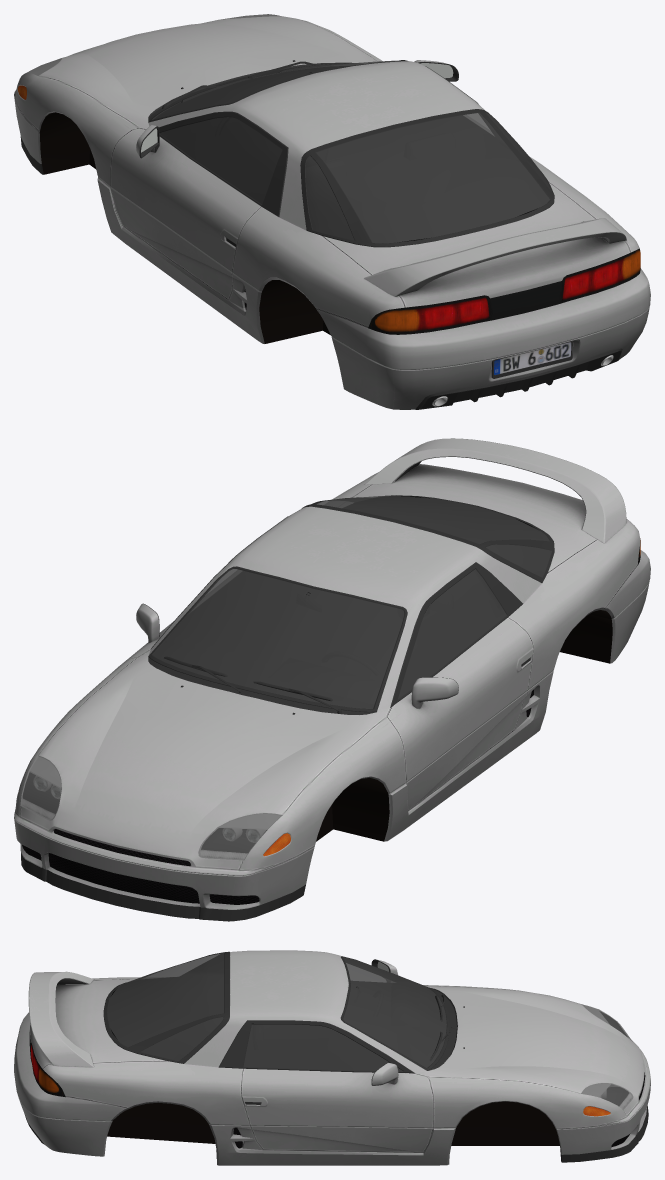
File: mgto.FBX
3 renders of one model, top to bottom at view 1: azimuth 30°, elevation 25°; view 2: azimuth 150°, elevation 25°; view 3: azimuth 270°, elevation 25°, orthographic. The views are drawn at different scales.
Parts seen in each view (by area): view 1: b; view 2: b; view 3: b.
Part boxes in pixels (<box>): b: <box>14,14,650,409</box>; b: <box>14,438,650,921</box>; b: <box>14,950,650,1165</box>.
Size of the model in its own units: 2.01 by 1.09 by 4.63.
